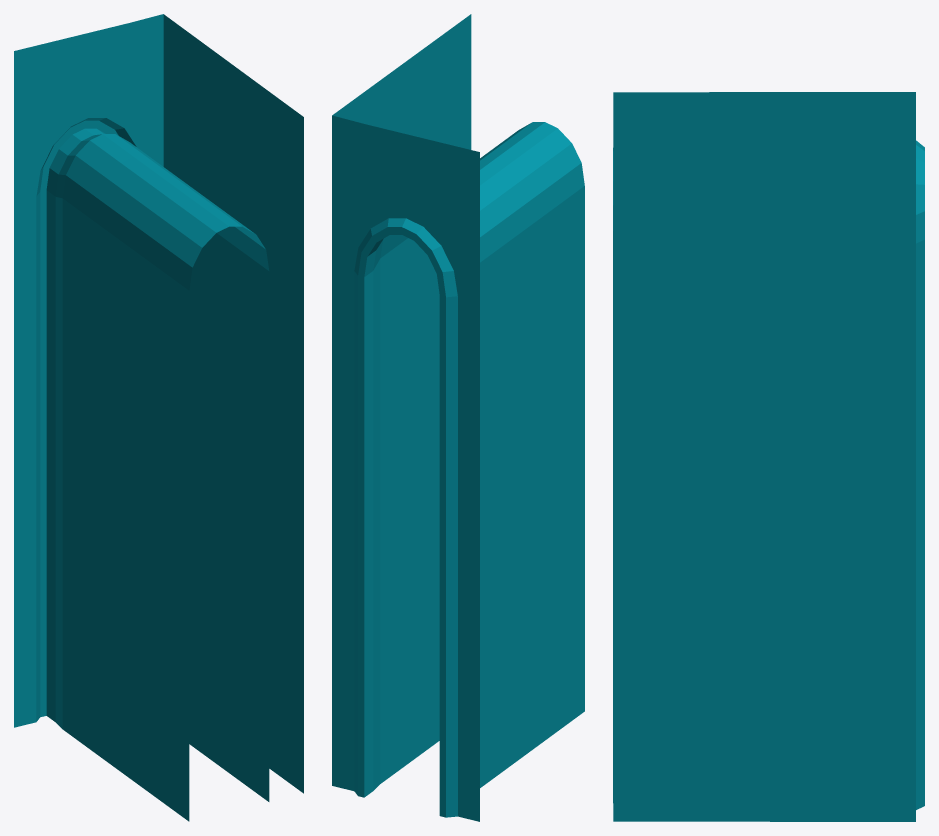
The model's file is Arch_modul_end_cap_L.fbx.
The picture shows the model from 3 angles, left to right: view 1: azimuth 30°, elevation 25°; view 2: azimuth 150°, elevation 25°; view 3: azimuth 270°, elevation 25°; orthographic projection. The views are drawn at different scales.
Visible parts, largest first — view 1: Arch_Modul_Endcap_L; view 2: Arch_Modul_Endcap_L; view 3: Arch_Modul_Endcap_L.
Boxes of the visible parts, x1,y1,x2,y2 form: Arch_Modul_Endcap_L: (14,14,303,821); Arch_Modul_Endcap_L: (332,14,584,821); Arch_Modul_Endcap_L: (613,92,924,821).
Bounding box in the file's own units: 0.6623 × 2.87 × 1.11.
